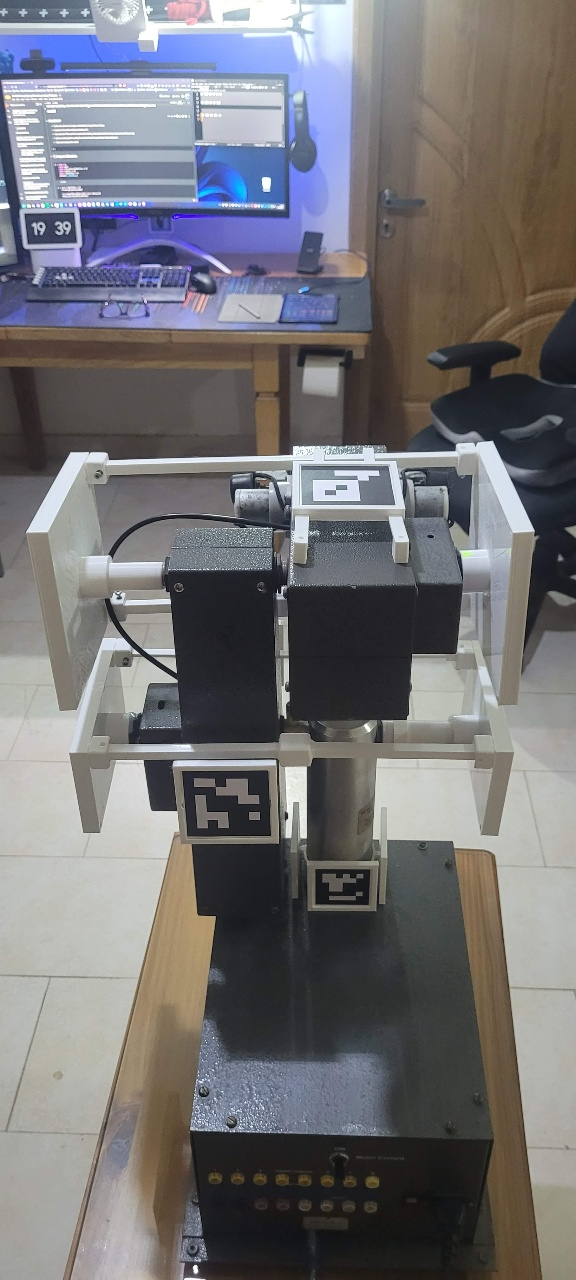Robot: (74, 294, 478, 1027)
